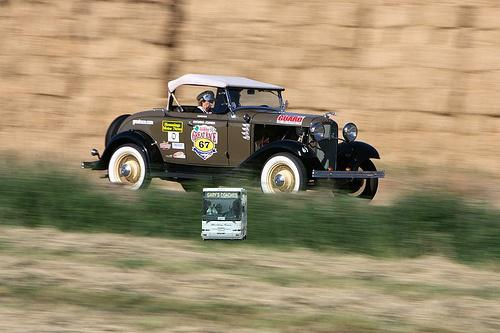tampered: (202, 189, 247, 241)
